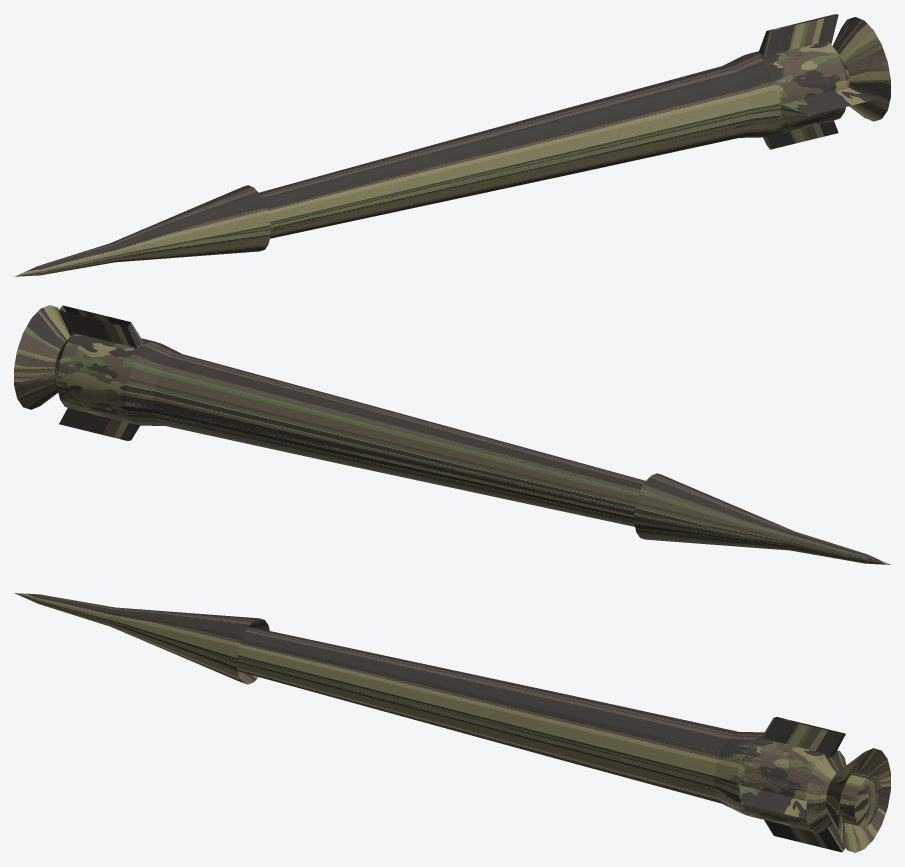
File: vvvv.FBX
3 views of the same model, one above another, from view 1: azimuth 30°, elevation 25°; view 2: azimuth 150°, elevation 25°; view 3: azimuth 330°, elevation 25° (orthographic).
Visible parts, largest first — view 1: Cylinder002; view 2: Cylinder002; view 3: Cylinder002.
Boxes of the visible parts, x1,y1,x2,y2 form: Cylinder002: [15, 14, 890, 276]; Cylinder002: [14, 305, 890, 564]; Cylinder002: [14, 593, 890, 852].
Size of the model in its own units: 224 by 29.75 by 27.47.
Materials: 1 (1 with a texture image).
